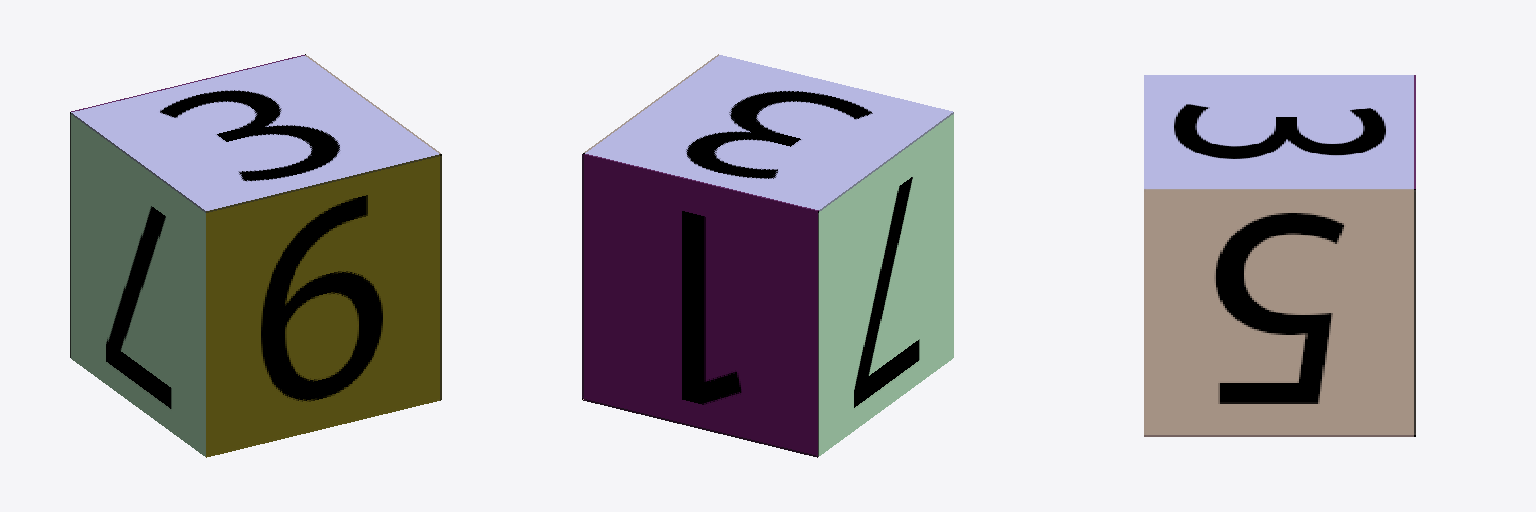
3 renders of one model, left to right at view 1: azimuth 30°, elevation 25°; view 2: azimuth 150°, elevation 25°; view 3: azimuth 270°, elevation 25°, orthographic.
Parts seen in each view (by area): view 1: Cube; view 2: Cube; view 3: Cube.
Part boxes in pixels (bbox=[...]): Cube: bbox=[70, 54, 441, 457]; Cube: bbox=[582, 54, 953, 457]; Cube: bbox=[1144, 75, 1415, 436].
Bounding box in the file's own units: 2 × 2 × 2.
1 materials, 1 textured.